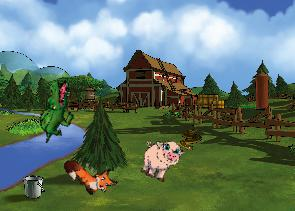crocodile: (33, 78, 78, 143)
fox: (60, 143, 121, 204)
pig: (135, 133, 186, 186)
